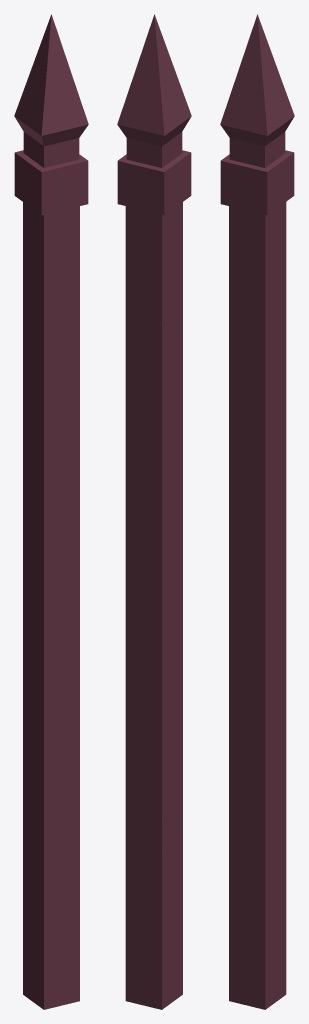
Rendered from fencepole.fbx.
3 views of the same model, side by side, from view 1: azimuth 30°, elevation 25°; view 2: azimuth 150°, elevation 25°; view 3: azimuth 330°, elevation 25° (orthographic).
Parts seen in each view (by area): view 1: Cube; view 2: Cube; view 3: Cube.
Part boxes in pixels (x1,y1,x2,y2): Cube: [14, 14, 88, 1009]; Cube: [117, 14, 191, 1009]; Cube: [220, 14, 294, 1009].
Bounding box in the file's own units: 20.12 × 400 × 20.12.
